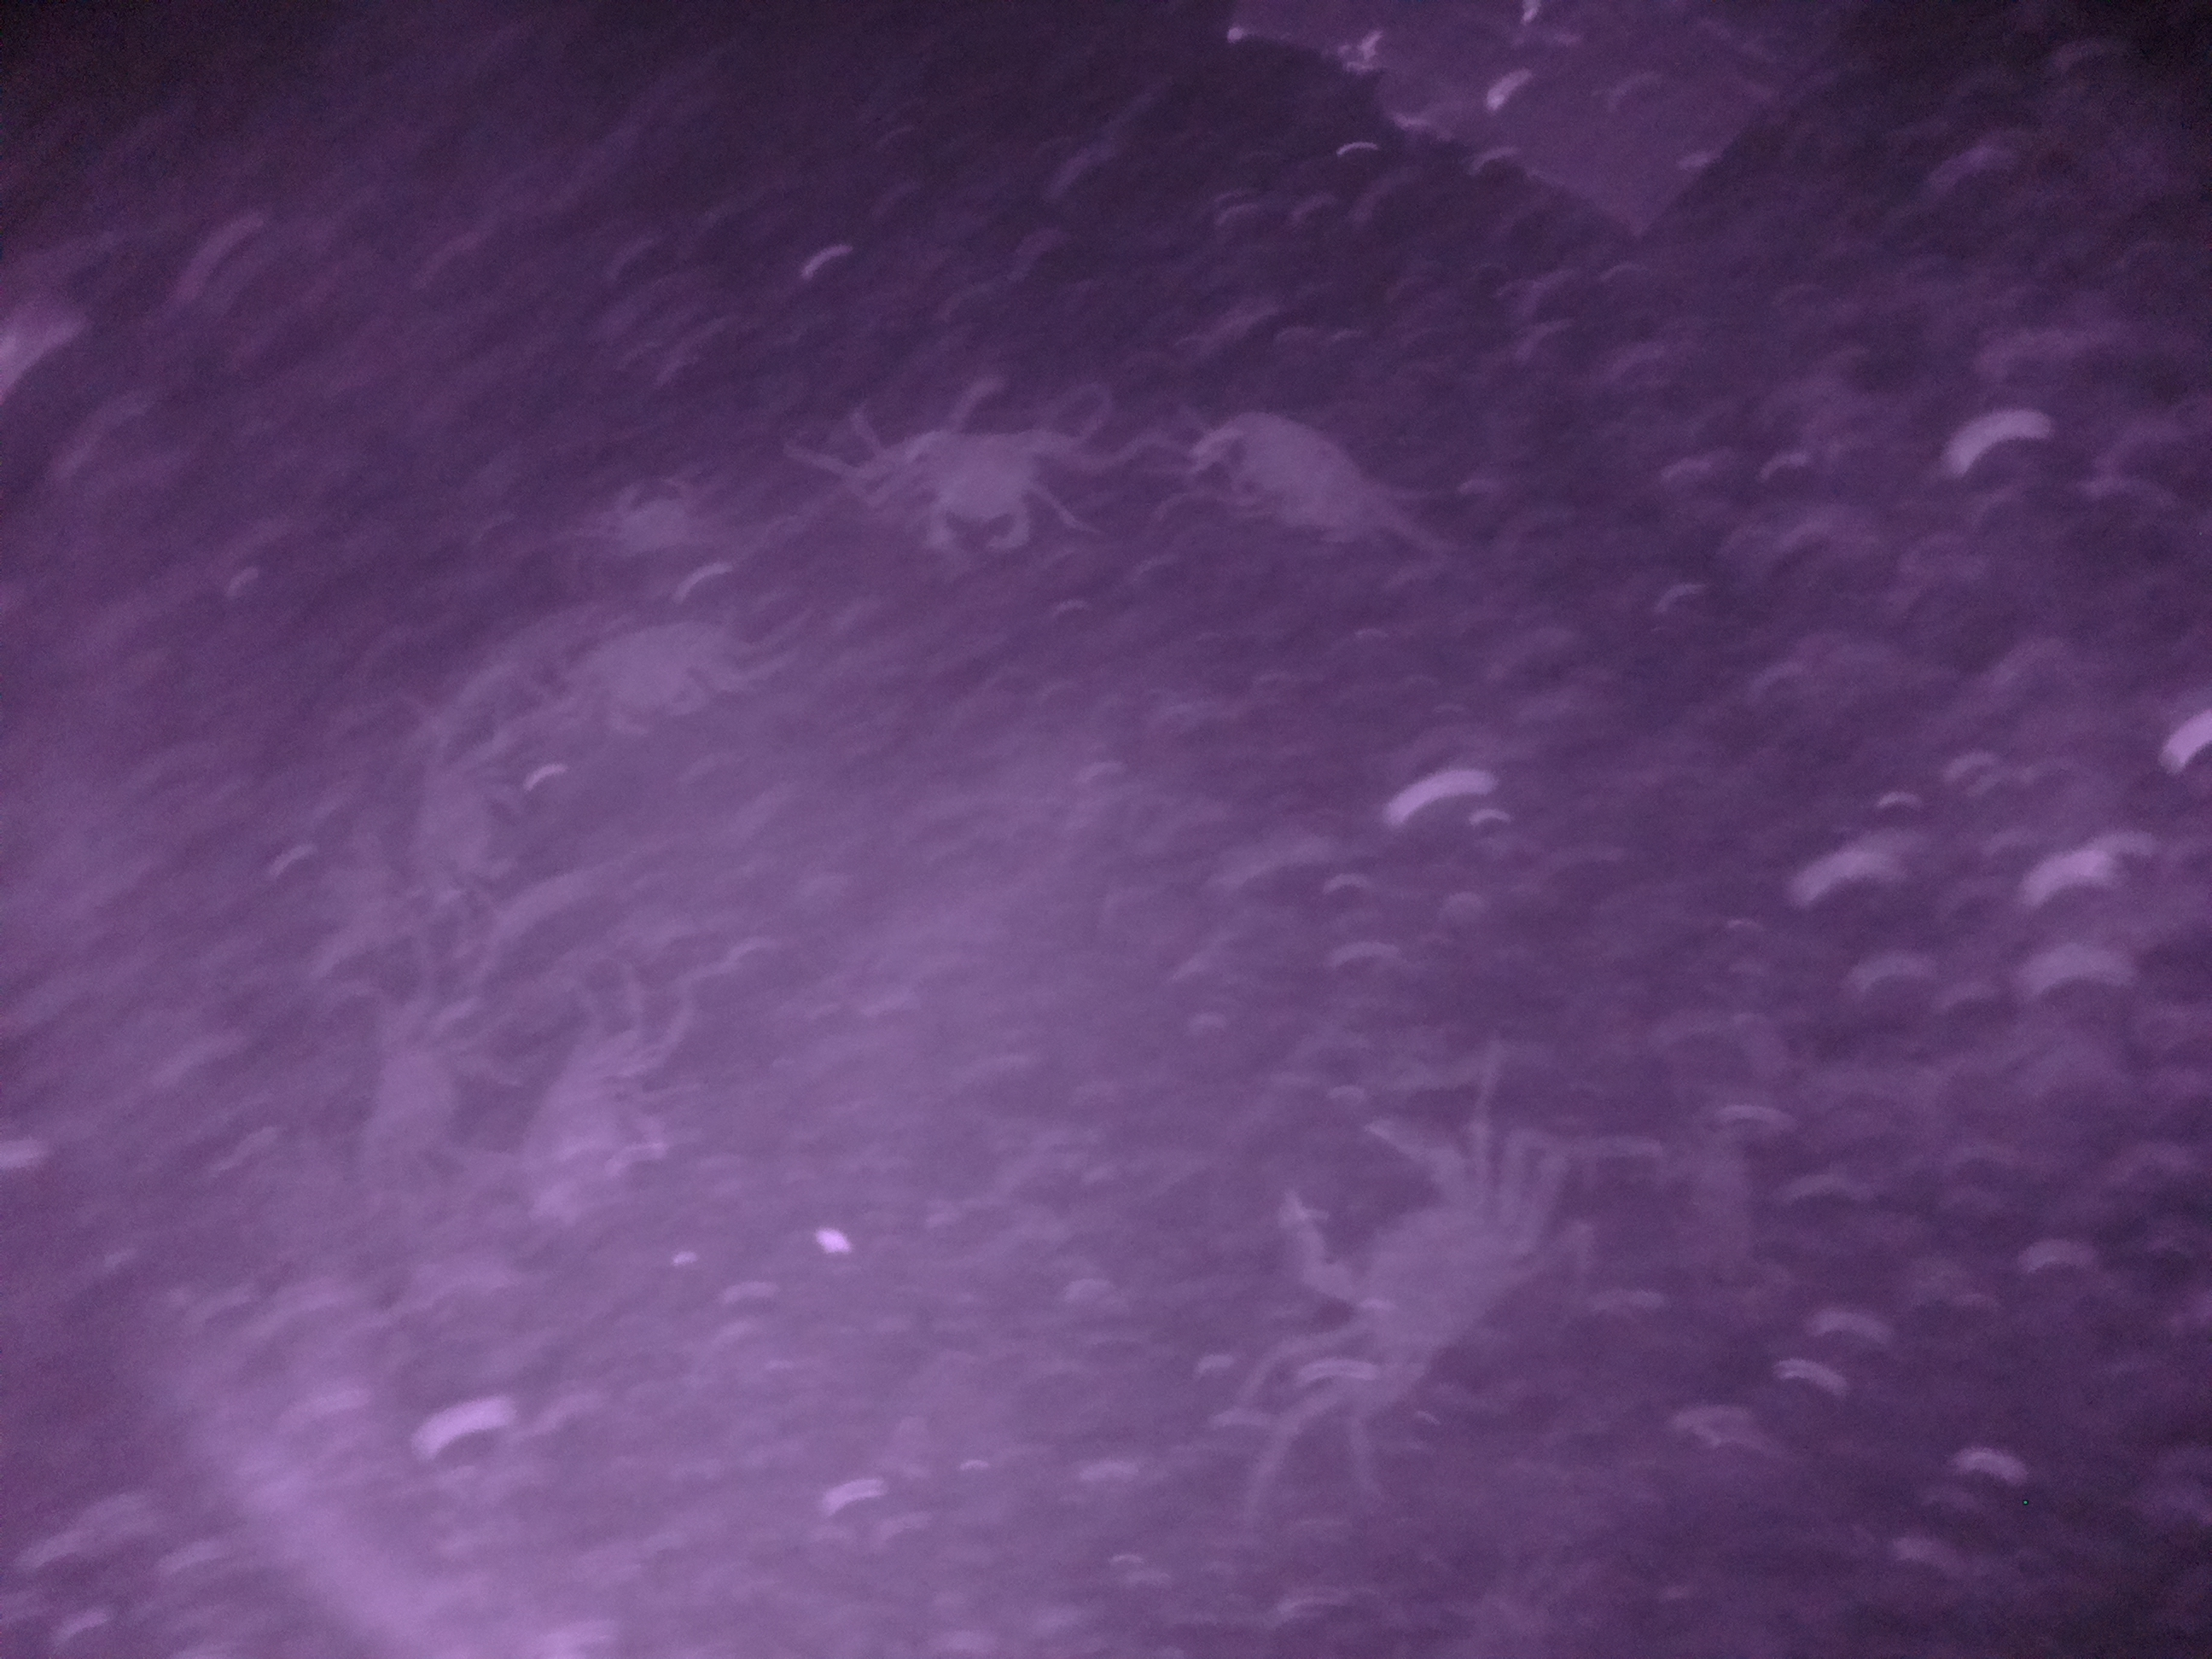Crab: (878, 401, 1094, 561)
